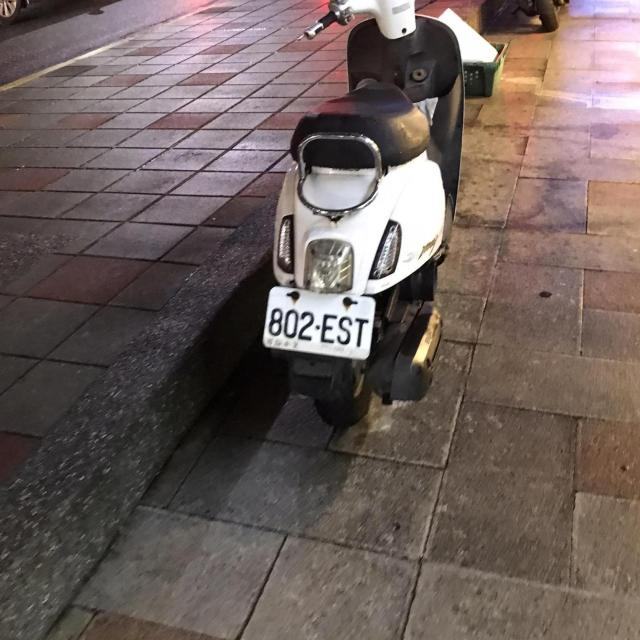W: (257, 279, 380, 364)
